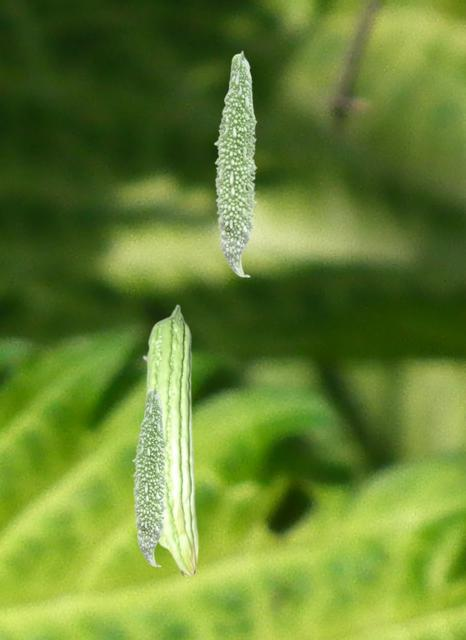ampalaya: (142, 303, 200, 579), (212, 48, 259, 279), (131, 386, 167, 568)
